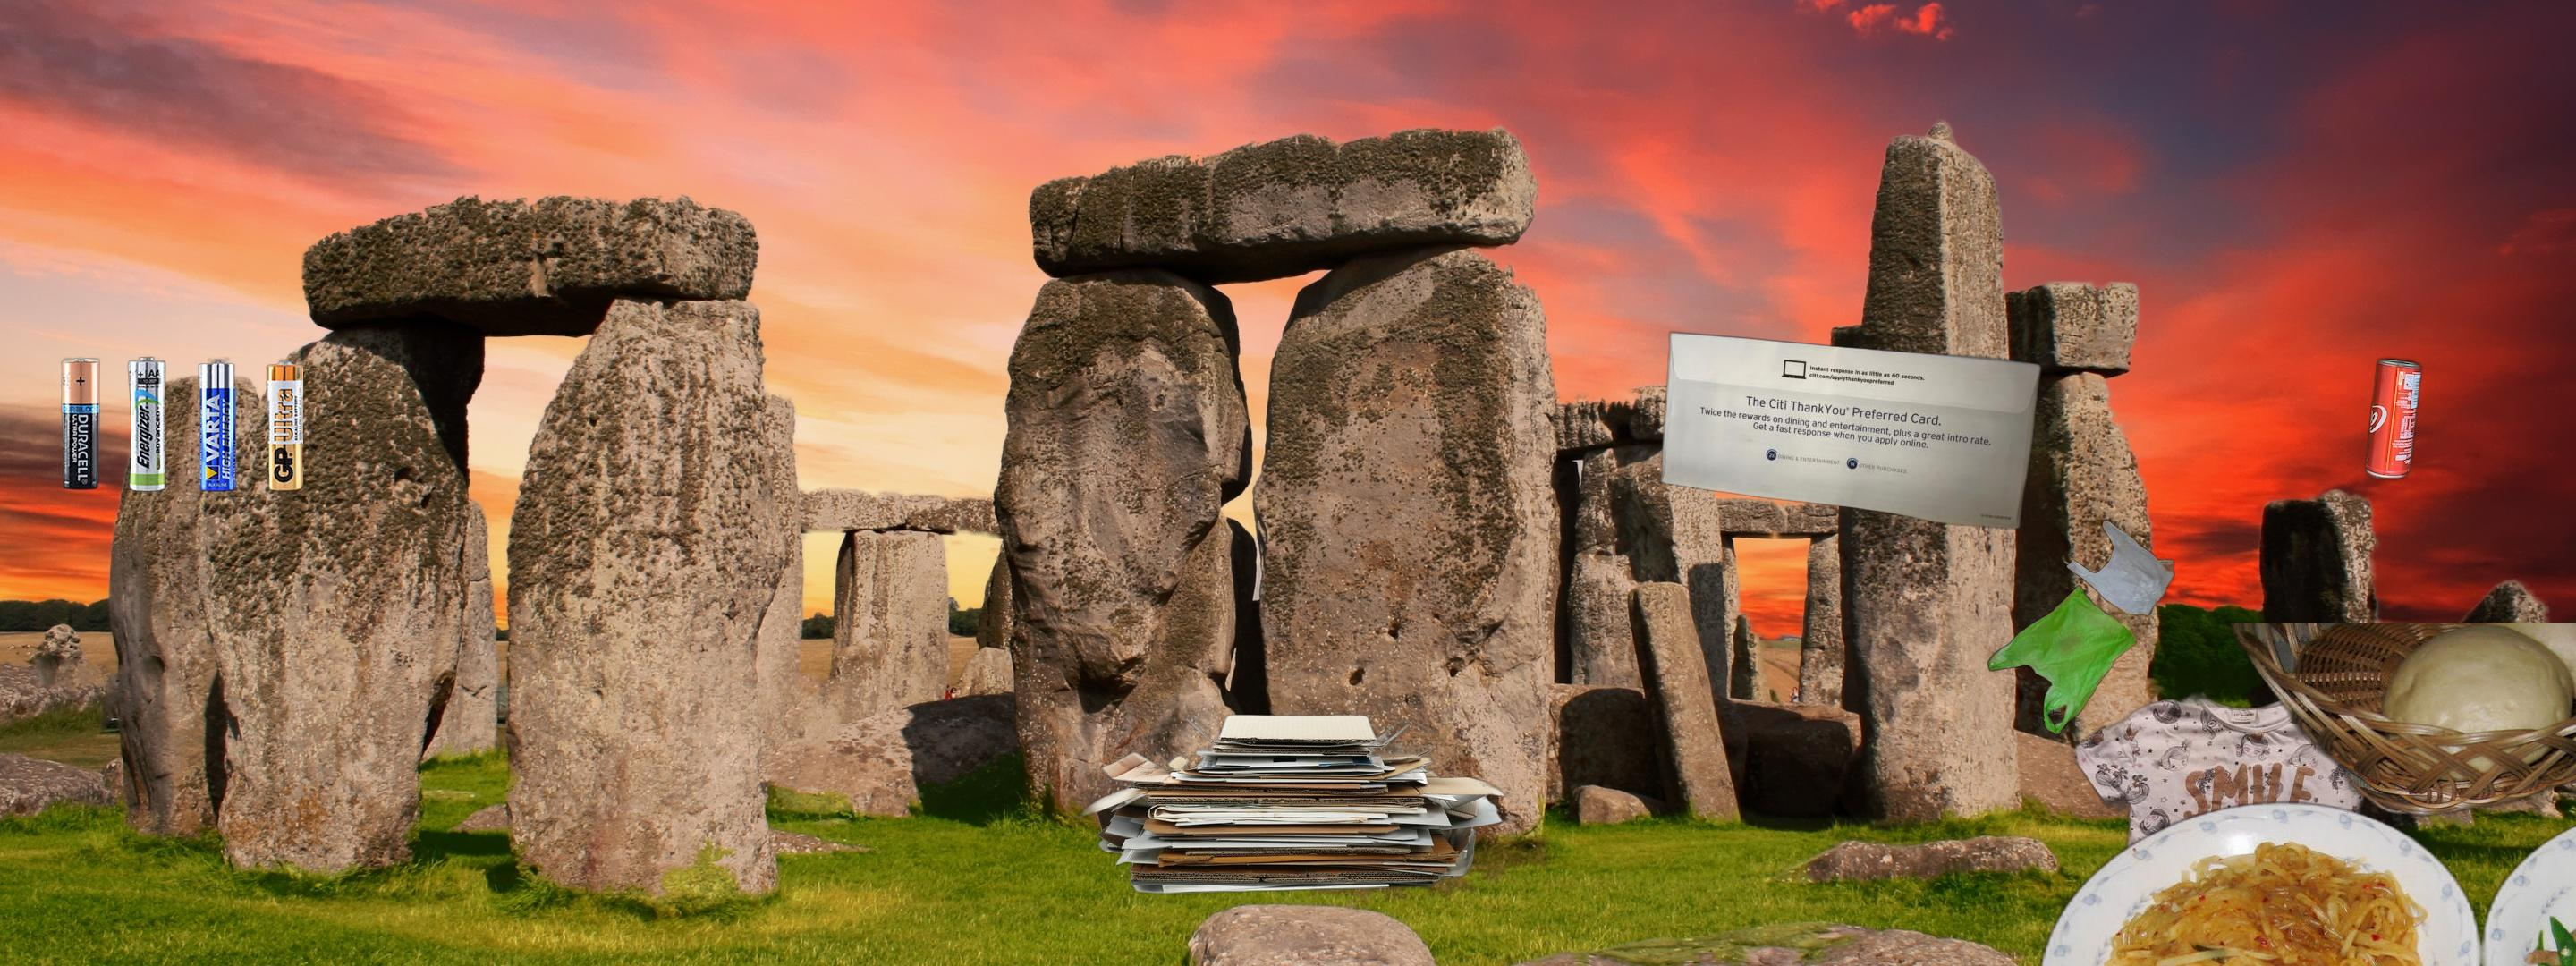battery: (59, 355, 304, 495)
biological: (2027, 623, 2576, 966)
clothes: (2067, 688, 2423, 966)
metal-cans: (2361, 353, 2427, 485)
paper: (1656, 329, 2045, 531)
plastic-bag: (1985, 495, 2180, 738)
trashbox-cardboard: (1063, 711, 1513, 897)
